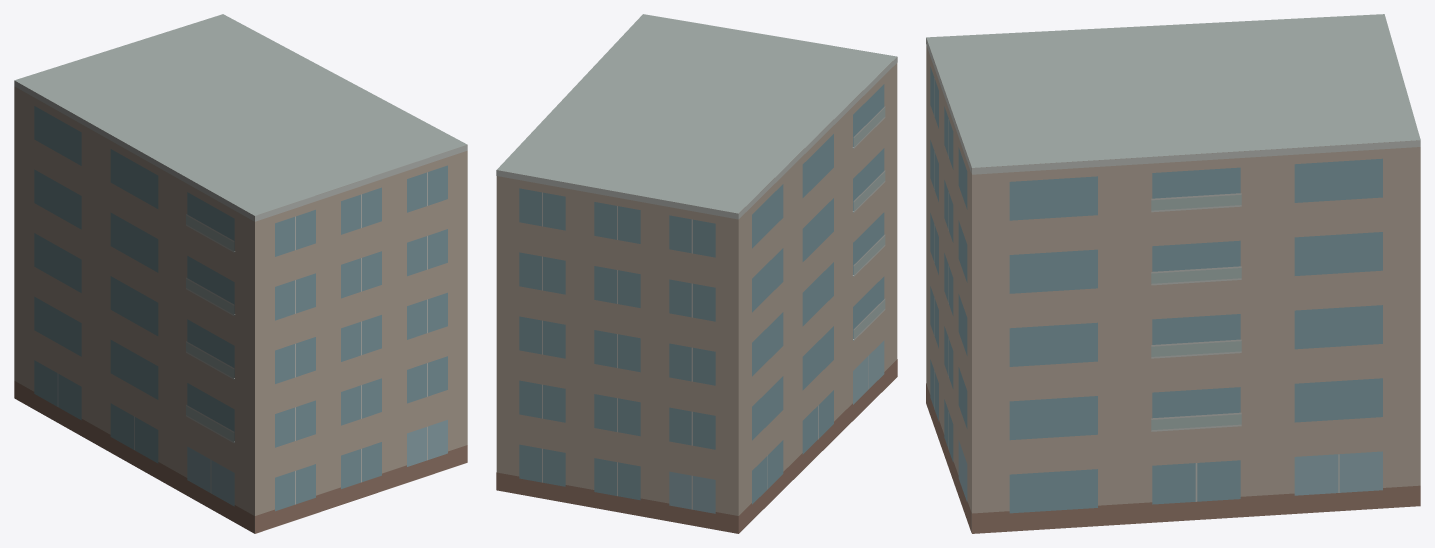
File: survey-upis-32901543.glb
3 views of the same model, side by side, from view 1: azimuth 30°, elevation 25°; view 2: azimuth 150°, elevation 25°; view 3: azimuth 270°, elevation 25° (orthographic). The views are drawn at different scales.
Parts seen in each view (by area): view 1: survey-upis-32901543.tmp; view 2: survey-upis-32901543.tmp; view 3: survey-upis-32901543.tmp.
Boxes of the visible parts, left/top/right/bottom form: survey-upis-32901543.tmp: left=14, top=14, right=467, bottom=533; survey-upis-32901543.tmp: left=496, top=14, right=897, bottom=533; survey-upis-32901543.tmp: left=926, top=14, right=1420, bottom=533.
Bounding box in the file's own units: 11.92 × 13.2 × 16.18.
